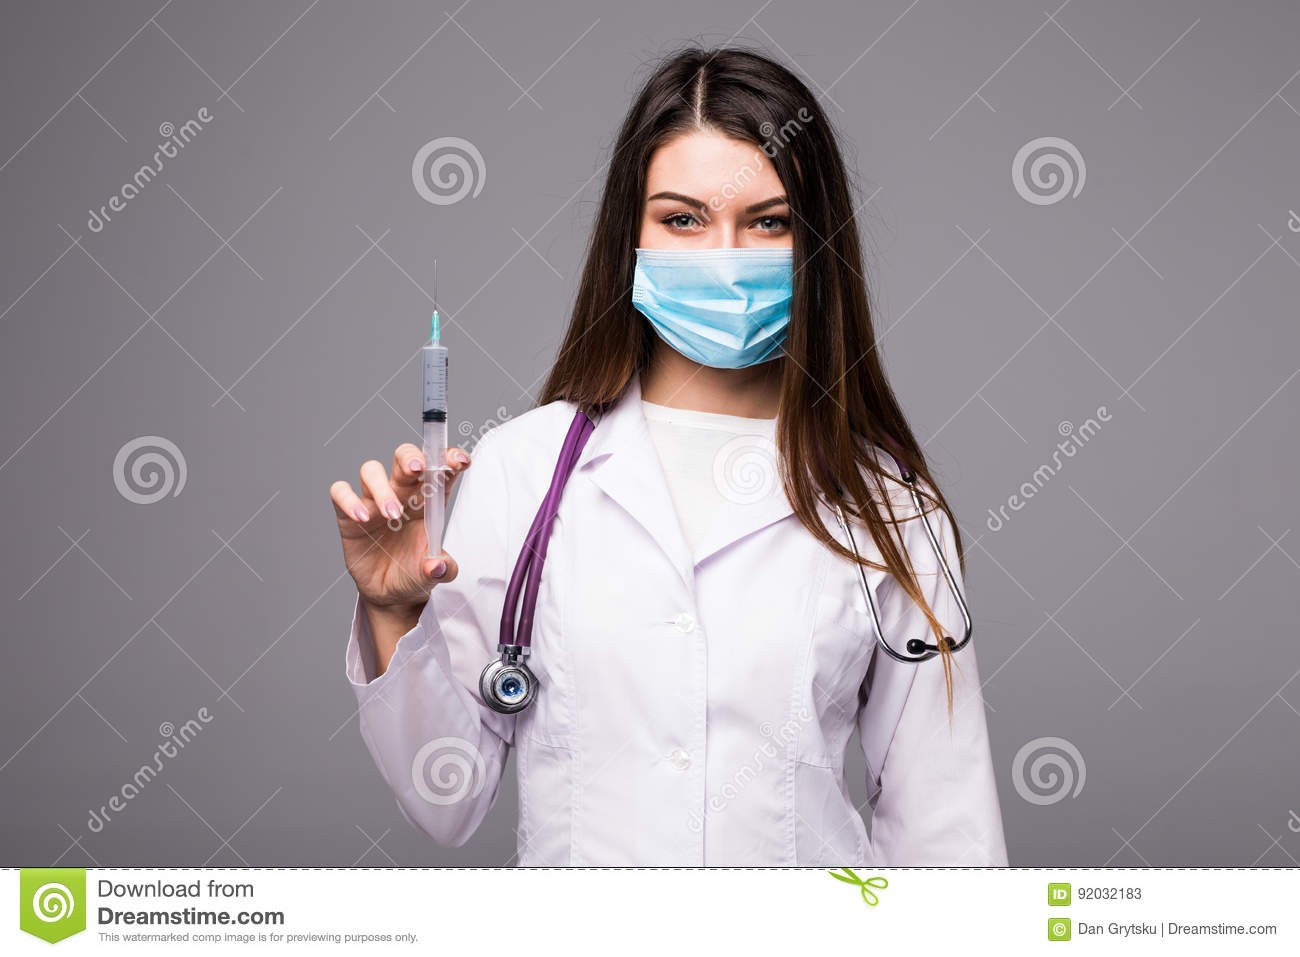mask: (626, 238, 820, 371)
